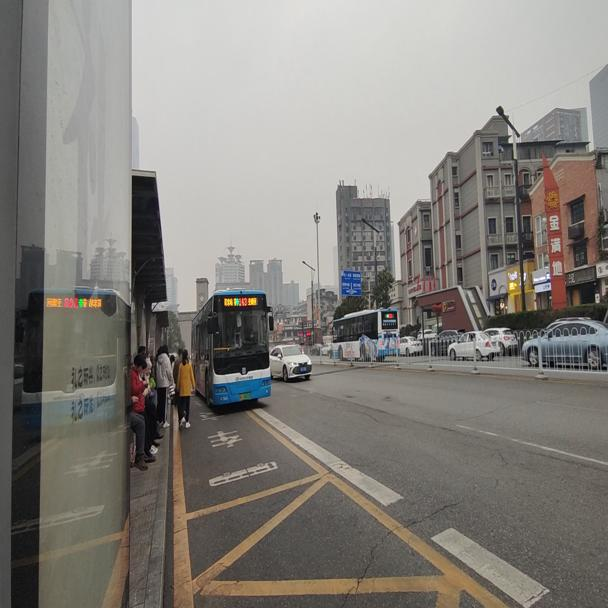bus: (190, 292, 268, 409), (328, 310, 399, 362)
screen: (237, 292, 248, 306)
